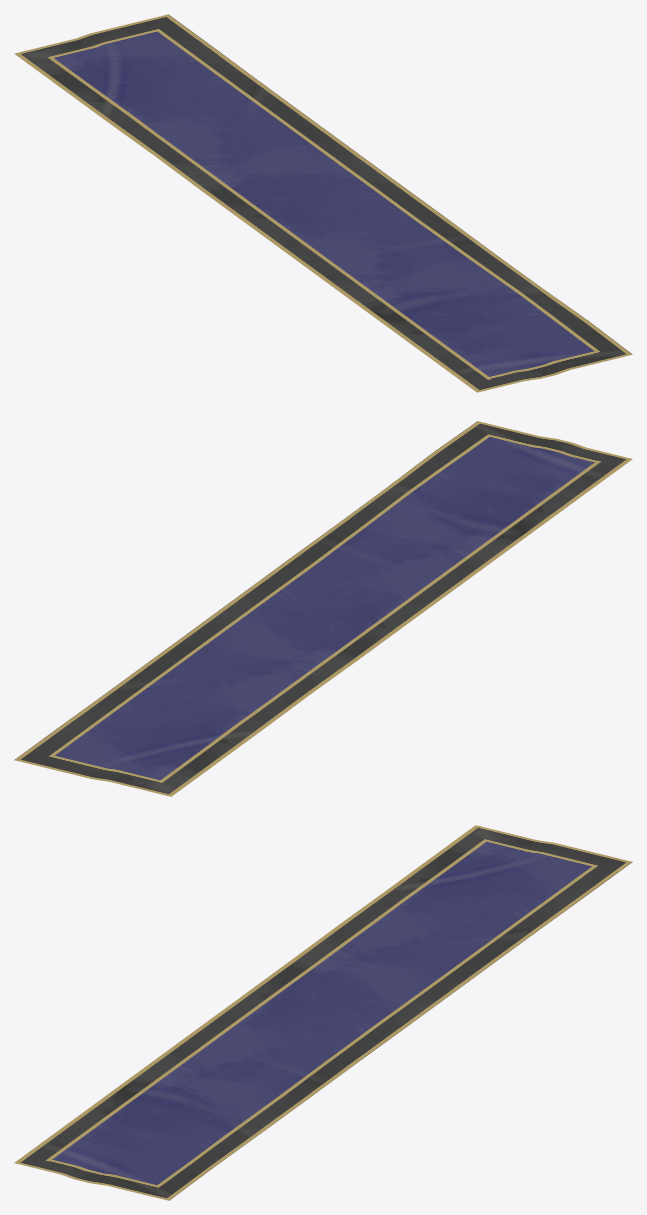
Rendered from SM_RugLongA.fbx.
3 views of the same model, one above another, from view 1: azimuth 30°, elevation 25°; view 2: azimuth 150°, elevation 25°; view 3: azimuth 330°, elevation 25° (orthographic).
Parts seen in each view (by area): view 1: SM_RugLongA_LOD0; view 2: SM_RugLongA_LOD0; view 3: SM_RugLongA_LOD0.
Boxes of the visible parts, x1=… form: SM_RugLongA_LOD0: x1=14, y1=14, x2=632, y2=392; SM_RugLongA_LOD0: x1=14, y1=421, x2=632, y2=796; SM_RugLongA_LOD0: x1=14, y1=825, x2=632, y2=1200.
Size of what is drawn, in the model's own units: 2.03 by 0.0128 by 10.51.
